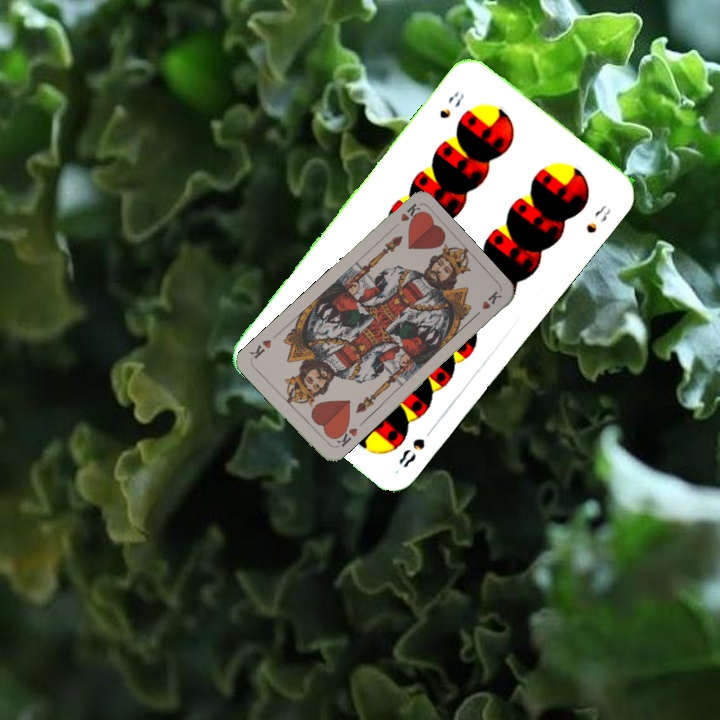HK: (387, 199, 424, 233), (329, 421, 360, 451)
S8: (394, 422, 438, 470), (435, 87, 467, 121)
